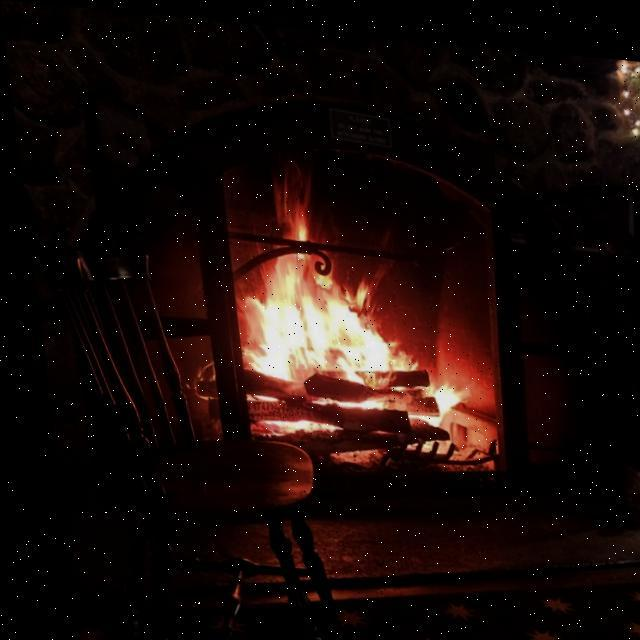Fire: (207, 188, 449, 432)
